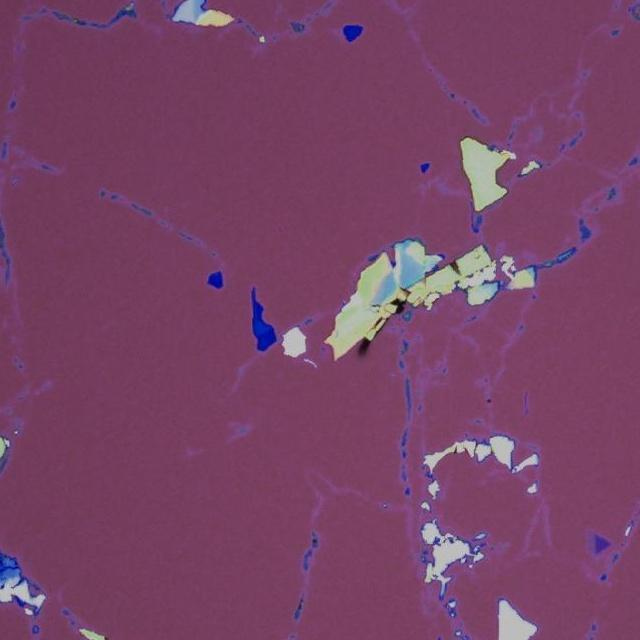monolayer-eWW4: (586, 528, 595, 552)
